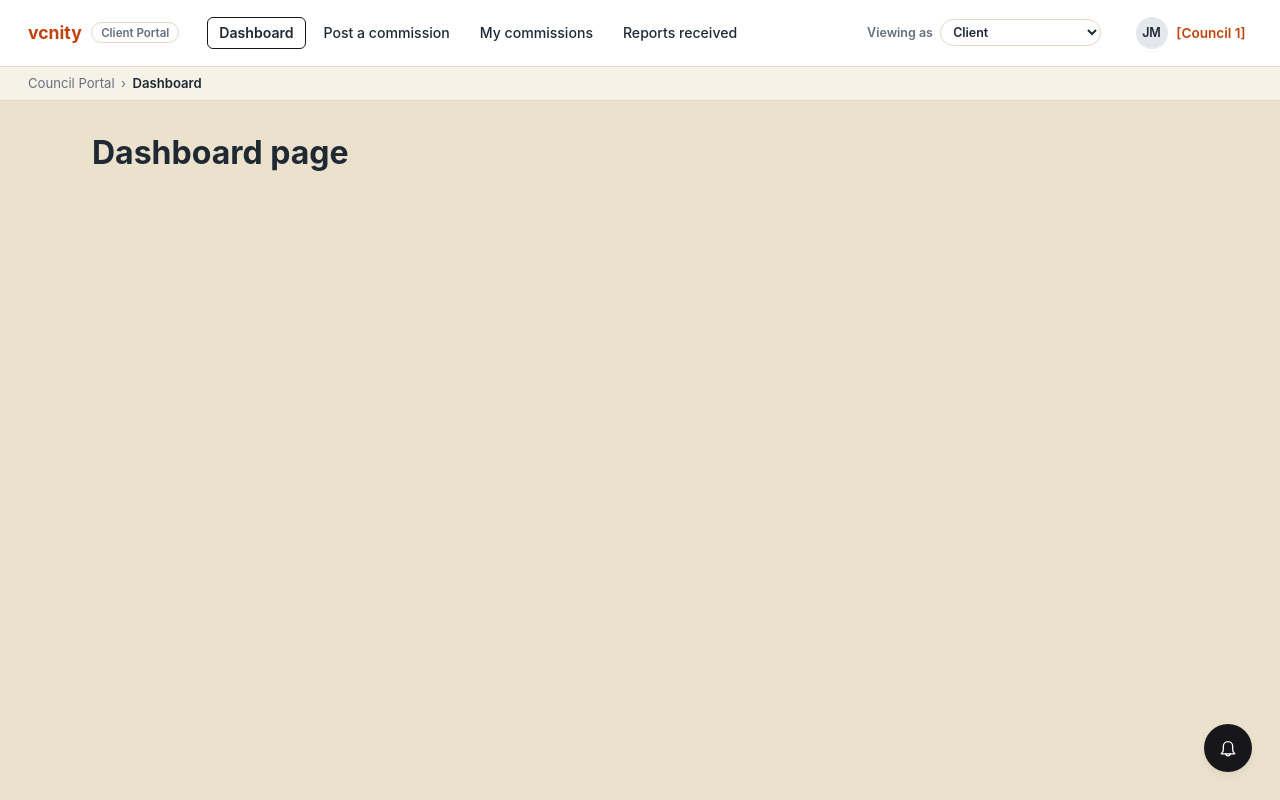
PortalLayout › switches role from the dropdown
The width and height of the screenshot is (1280, 800).
Select "Facilitator" in the dropdown named "Switch role" at (1021, 33), box [940,19,1101,46]
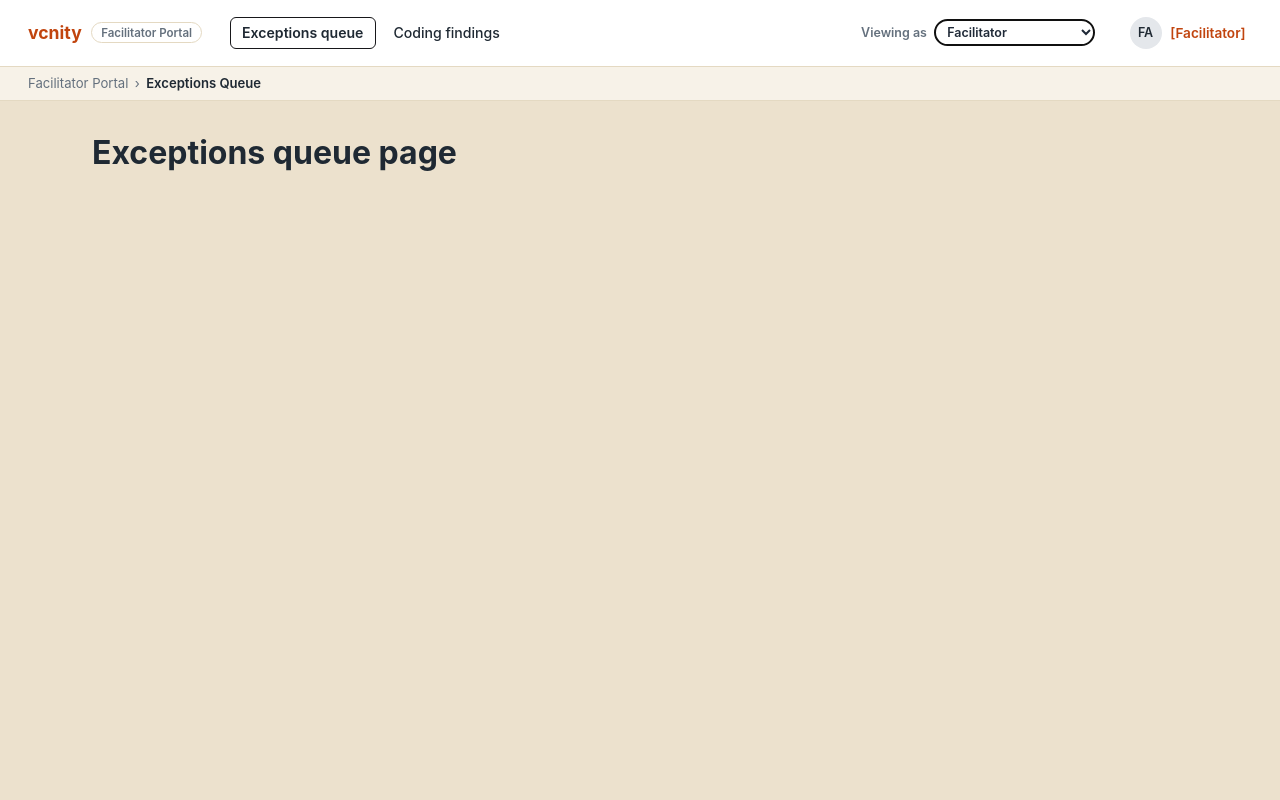
expect the heading "Exceptions queue page" is shown: met, box [92,133,457,172]
